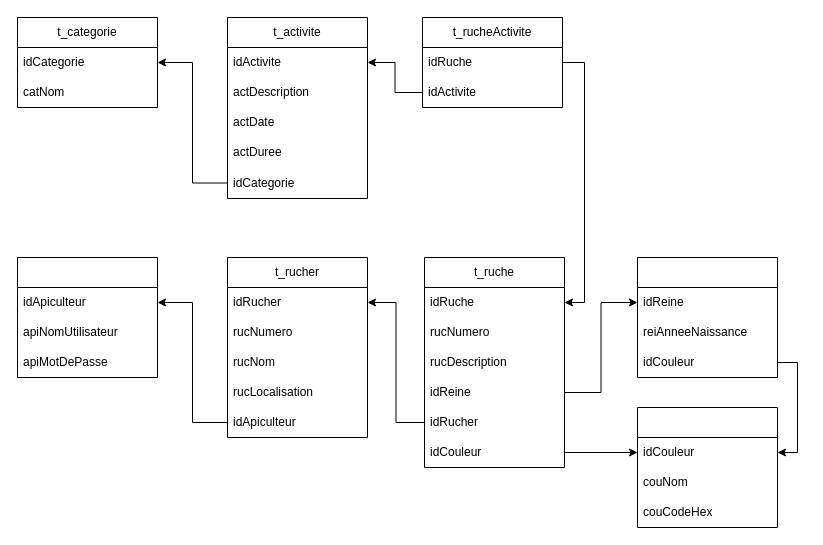
Some shapes in this 823 by 545 pixel diagram are drawn without their labels. Here are the shapes that lost their labels. From the top down, the box of each, then its label:
(16, 256, 158, 378): t_apiculteur
(636, 256, 778, 378): t_reine
(636, 406, 778, 528): t_couleur
